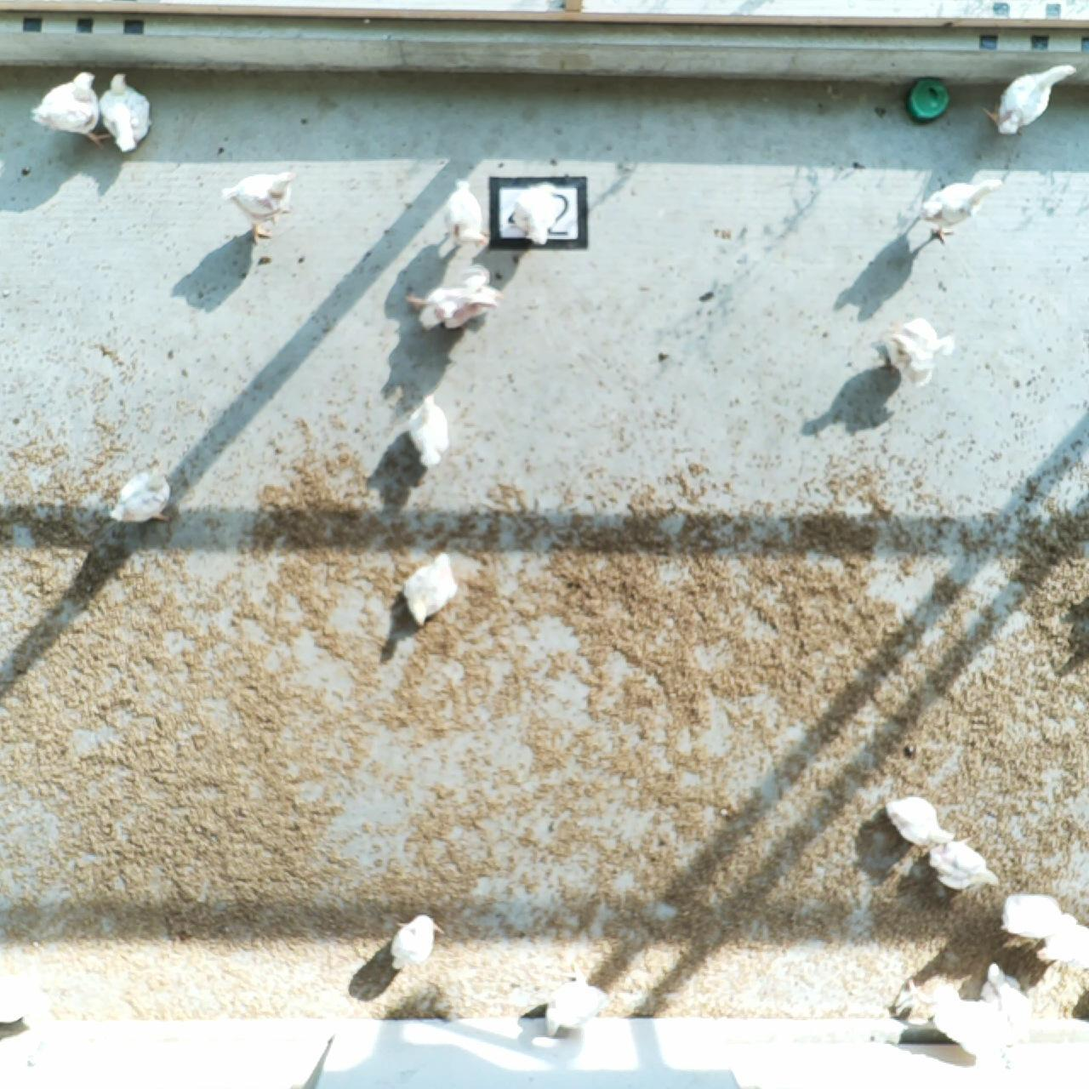chicken: (405, 252, 511, 338), (979, 59, 1078, 143), (26, 64, 112, 155), (897, 980, 997, 1055), (913, 170, 1007, 247), (220, 165, 304, 247), (877, 309, 958, 387), (534, 958, 611, 1035), (398, 546, 464, 635), (101, 462, 185, 528), (98, 69, 160, 157), (924, 833, 1005, 898), (438, 173, 497, 253), (508, 173, 566, 248), (877, 791, 959, 844), (995, 887, 1067, 947), (387, 908, 445, 980), (407, 388, 457, 467), (1033, 914, 1089, 981), (974, 958, 1031, 1023), (0, 955, 38, 1036)
